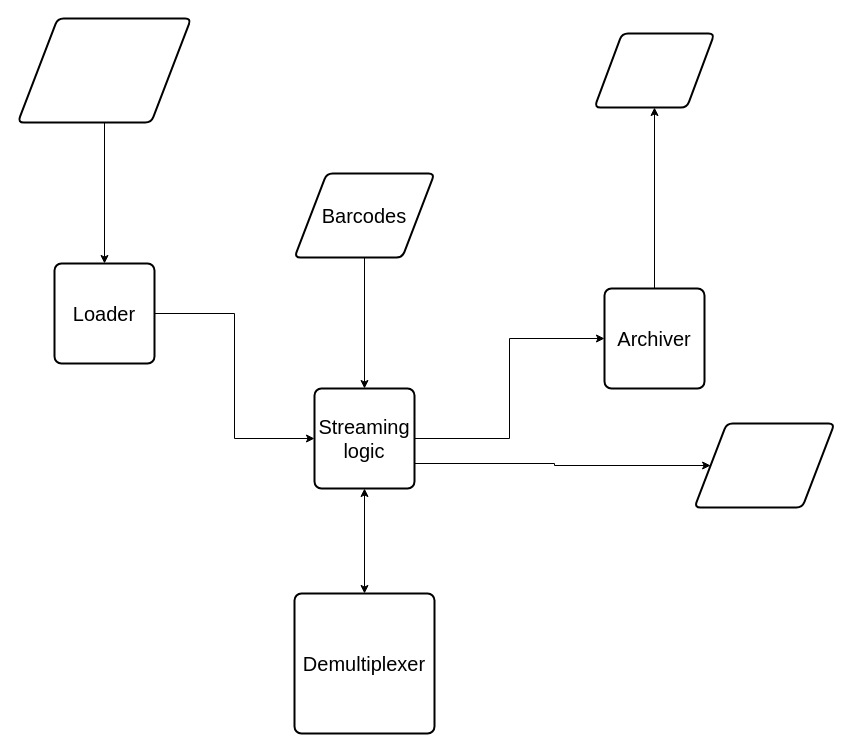
The diagram is 853 pixels wide and 751 high, and some of its shapes have lost their labels. Here are the shapes that lost their labels. From the top down, the centre of each, then its label:
At (104,70): "Input sequence file".
At (654,70): "Barcode table".
At (764,465): "Frequency table".
